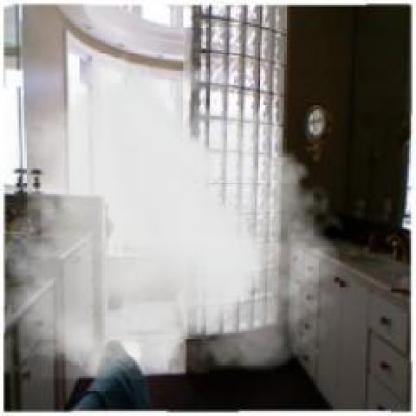Smoke: (5, 42, 352, 379)
